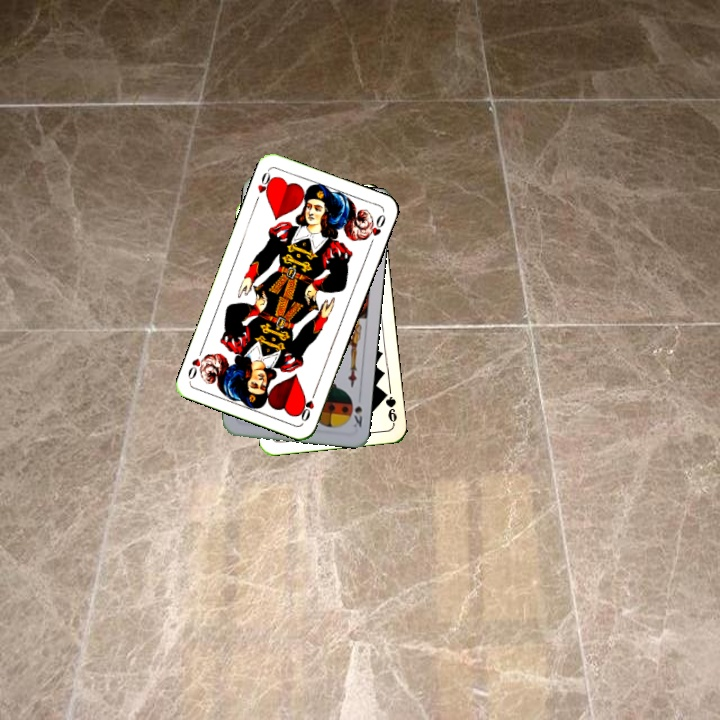G9: (378, 387, 399, 427)
HO: (297, 386, 319, 424), (253, 166, 277, 200)
SK: (348, 402, 365, 430)
